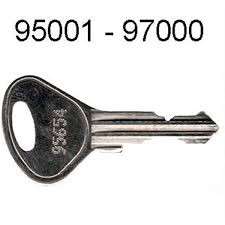kicharina: (1, 73, 221, 185)
